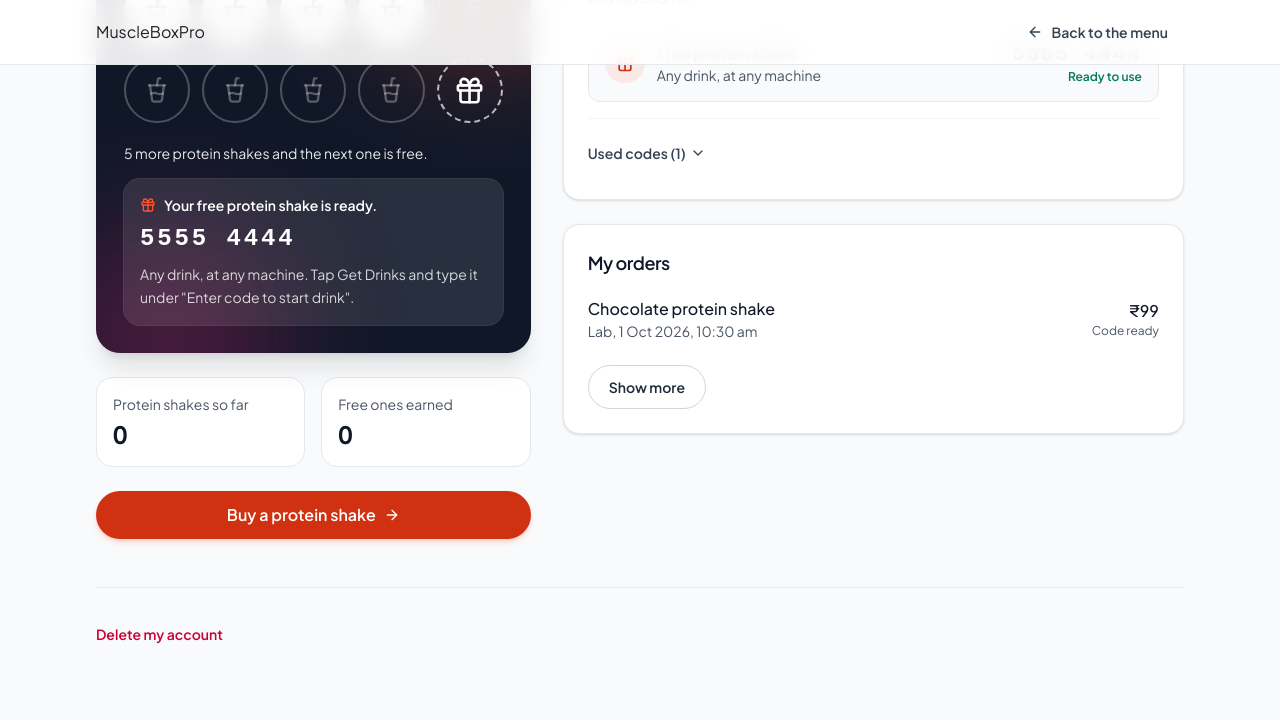
it: /drinks/account › shows the stamp card, the codes, and the orders a page at a time
(page scrolled)
Check: the element with test id "account-stamps" shows "5 more protein shakes", box [124,144,427,162]
Check: the list item with test id "account-code-55554444" shows "Free protein shake", box [657,42,797,63]
Step 1. Click the button with test id "account-orders-more" → (647, 387), box [588,365,706,409]
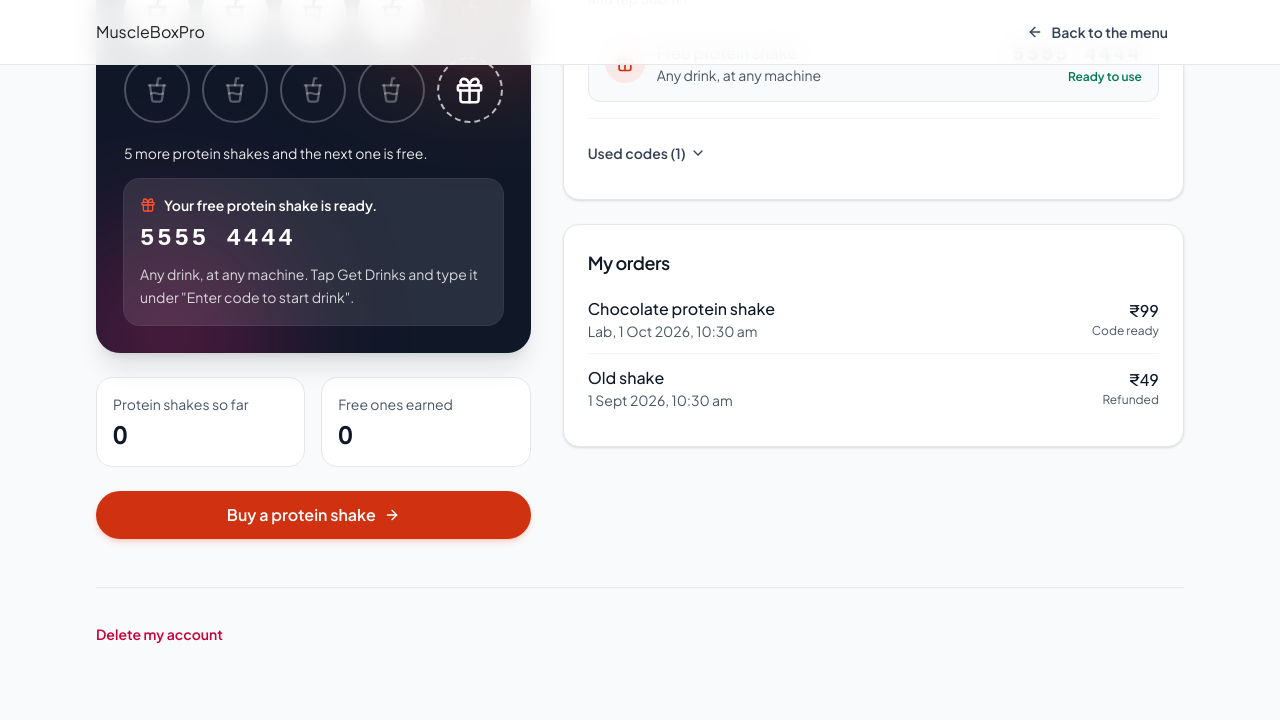
Check: the list item with test id "account-order-so_1" is shown, box [588,285,1159,354]
Check: the list item with test id "account-order-so_0" shows "Refunded", box [1102,392,1159,407]
Check: the button with test id "account-orders-more" is gone
